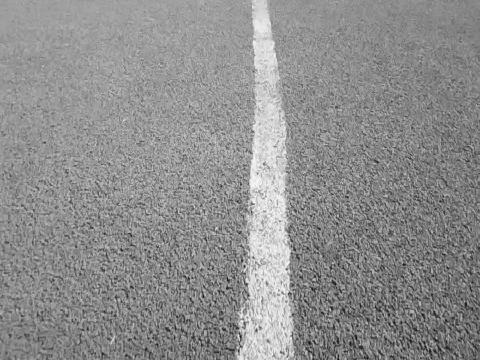Lines: (239, 0, 296, 360)
